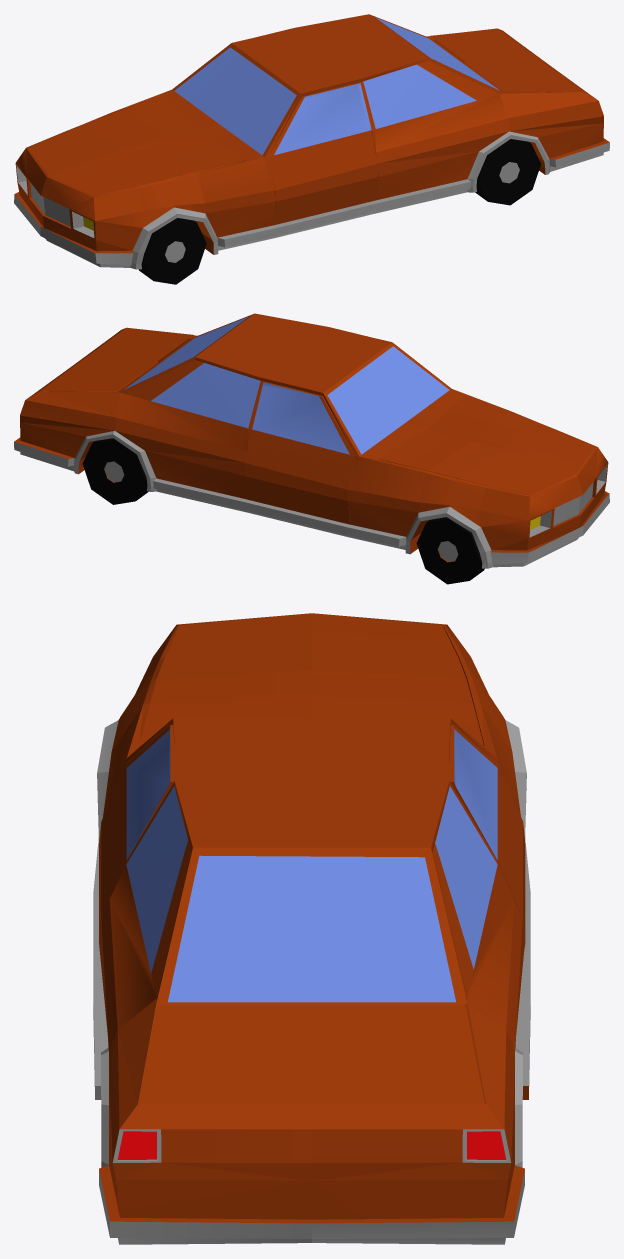
The model's file is CarAll_BH.fbx.
The picture shows the model from 3 angles, top to bottom: view 1: azimuth 30°, elevation 25°; view 2: azimuth 150°, elevation 25°; view 3: azimuth 270°, elevation 25°; orthographic projection. The views are drawn at different scales.
Parts seen in each view (by area): view 1: Car; view 2: Car; view 3: Car.
Part boxes in pixels (x1=…): Car: x1=14, y1=14, x2=609, y2=284; Car: x1=14, y1=313, x2=609, y2=584; Car: x1=93, y1=613, x2=530, y2=1244.
Size of the model in its own units: 819 by 222 by 299.
